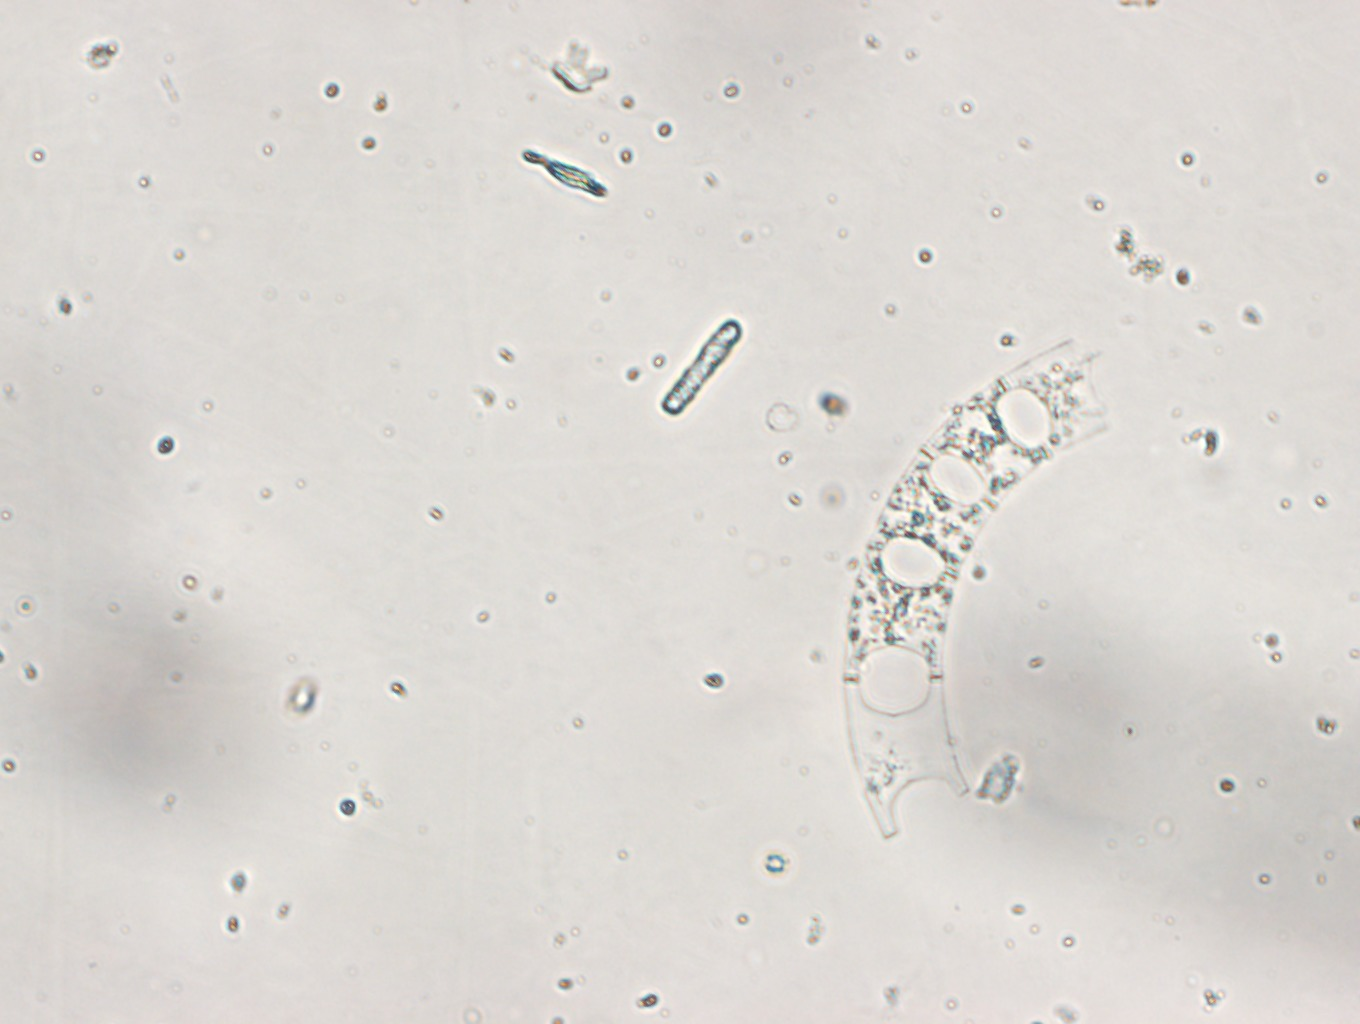eucampia: (829, 336, 1108, 852)
